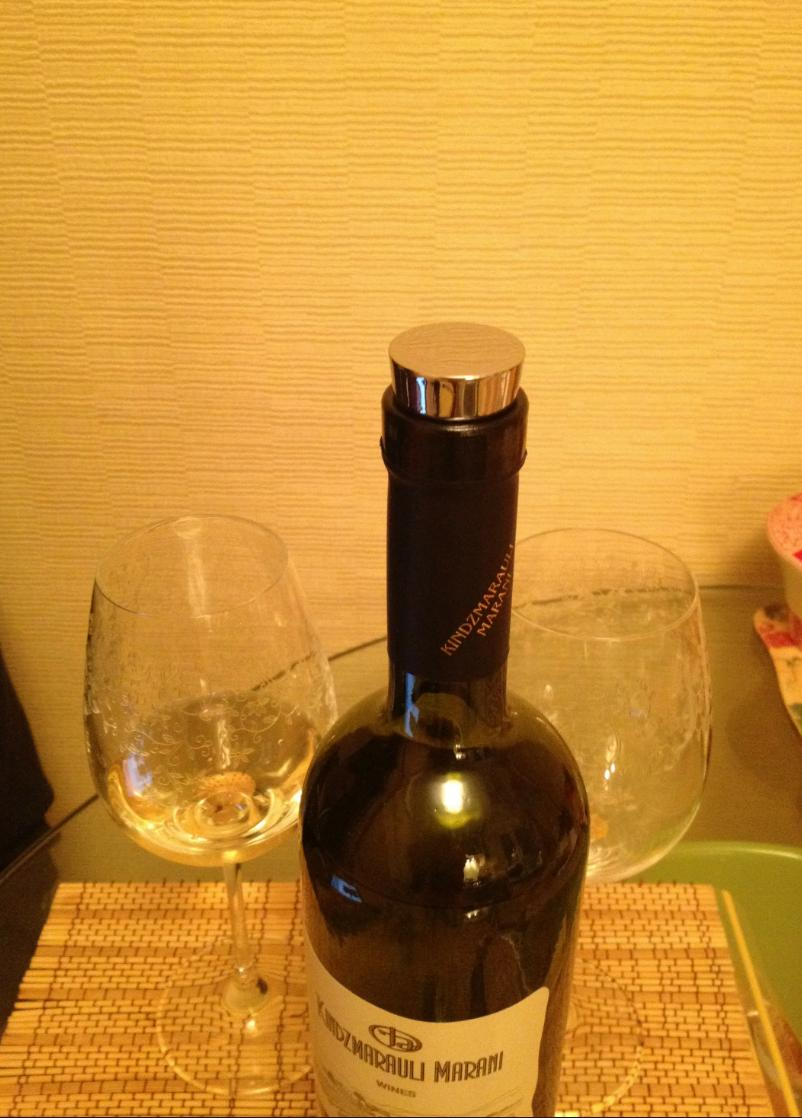wine bottle: (300, 322, 590, 1118)
wine label: (308, 936, 543, 1117)
